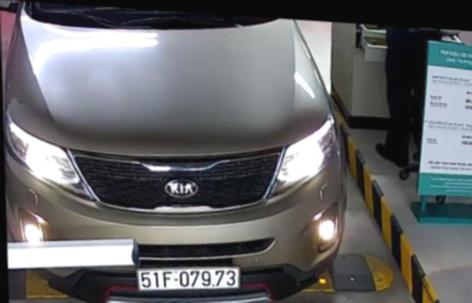License_Plate: (128, 256, 252, 298)
